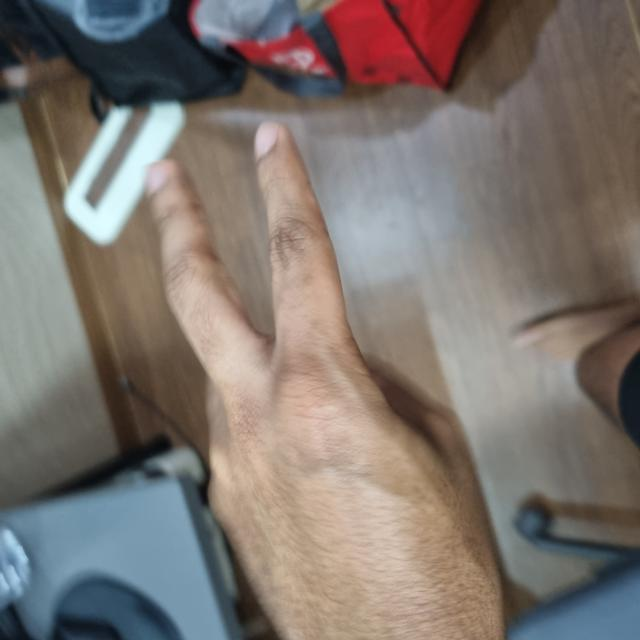Scissors: (0, 158, 509, 510)
